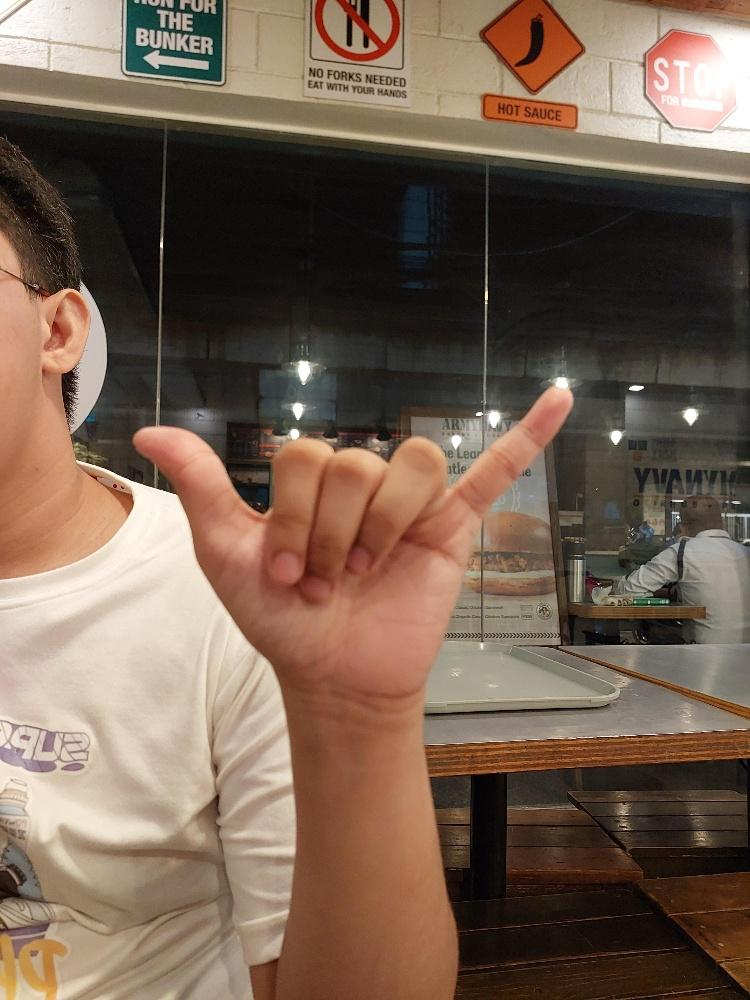y: (129, 380, 576, 701)
